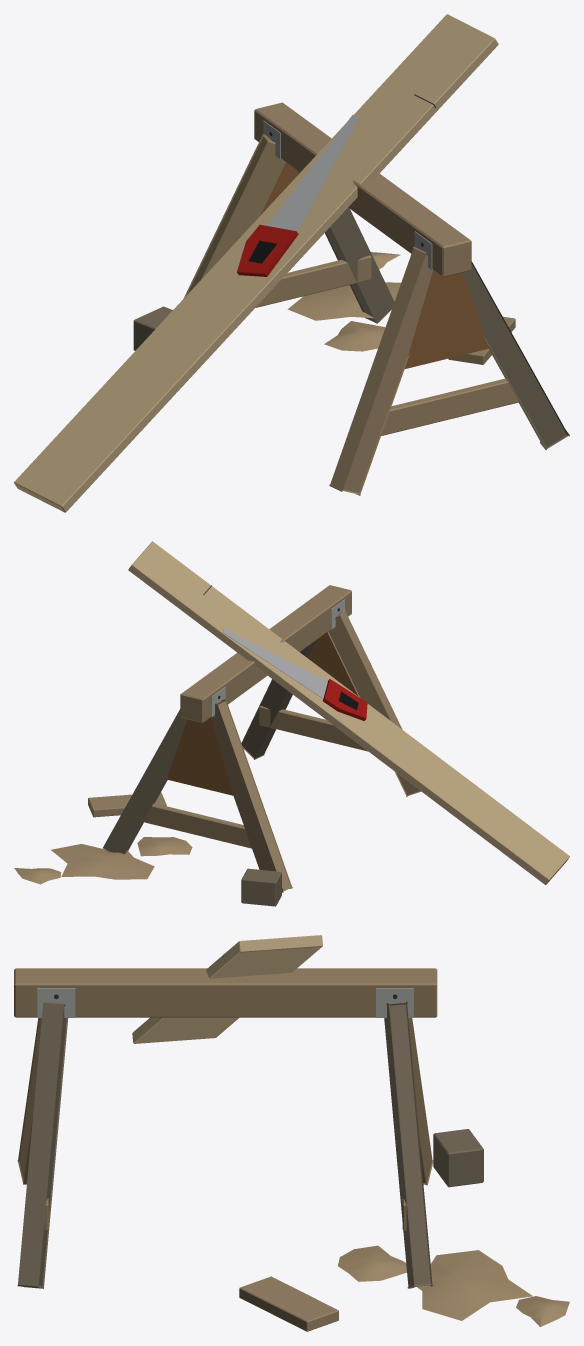
Rendered from sawhorse.glb.
The picture shows the model from 3 angles, top to bottom: view 1: azimuth 30°, elevation 25°; view 2: azimuth 150°, elevation 25°; view 3: azimuth 270°, elevation 25°; orthographic projection. The views are drawn at different scales.
Visible parts, largest first — view 1: teil5, teil0, teil1, teil2, teil9, teil6, teil7, teil4; view 2: teil5, teil0, teil1, teil2, teil9, teil6, teil7; view 3: teil0, teil1, teil9, teil5, teil4.
Part boxes in pixels (left/top/right/bottom): teil5: left=14, top=14, right=498, bottom=512; teil0: left=183, top=102, right=518, bottom=495; teil1: left=133, top=170, right=569, bottom=450; teil2: left=260, top=162, right=488, bottom=368; teil9: left=287, top=252, right=400, bottom=351; teil6: left=267, top=115, right=359, bottom=231; teil7: left=237, top=224, right=298, bottom=276; teil4: left=263, top=120, right=432, bottom=269; teil5: left=128, top=541, right=569, bottom=884; teil0: left=88, top=585, right=420, bottom=892; teil1: left=103, top=639, right=317, bottom=906; teil2: left=167, top=632, right=357, bottom=795; teil9: left=14, top=837, right=192, bottom=884; teil6: left=223, top=628, right=327, bottom=698; teil7: left=323, top=679, right=367, bottom=720; teil0: left=14, top=968, right=437, bottom=1331; teil1: left=17, top=1001, right=483, bottom=1288; teil9: left=338, top=1245, right=569, bottom=1326; teil5: left=132, top=935, right=322, bottom=1043; teil4: left=37, top=988, right=413, bottom=1017.
Bounding box in the file's own units: 1.66 × 0.9656 × 1.31.
